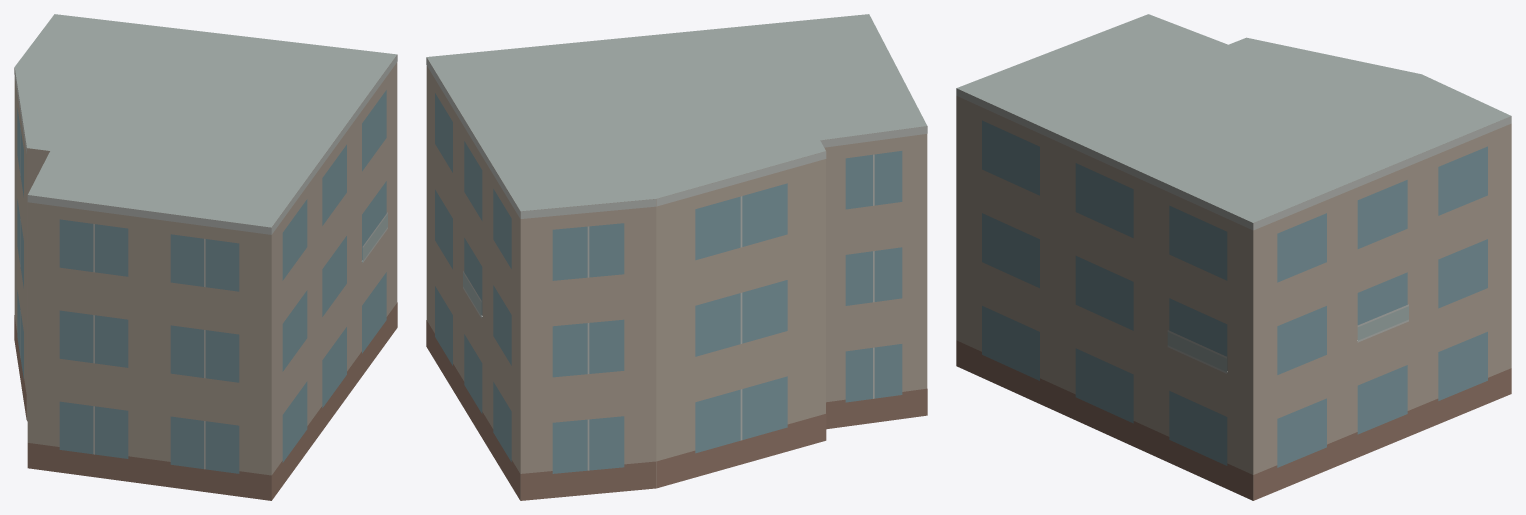
The model's file is survey-upis-32655661.glb.
3 renders of one model, left to right at view 1: azimuth 30°, elevation 25°; view 2: azimuth 150°, elevation 25°; view 3: azimuth 270°, elevation 25°, orthographic. The views are drawn at different scales.
Visible parts, largest first — view 1: survey-upis-32655661.tmp; view 2: survey-upis-32655661.tmp; view 3: survey-upis-32655661.tmp.
Part boxes in pixels (x1=…): survey-upis-32655661.tmp: x1=14, y1=14, x2=397, y2=500; survey-upis-32655661.tmp: x1=426, y1=14, x2=927, y2=500; survey-upis-32655661.tmp: x1=956, y1=14, x2=1511, y2=500.
Size of the model in its own units: 14.61 by 9.05 by 16.4.
